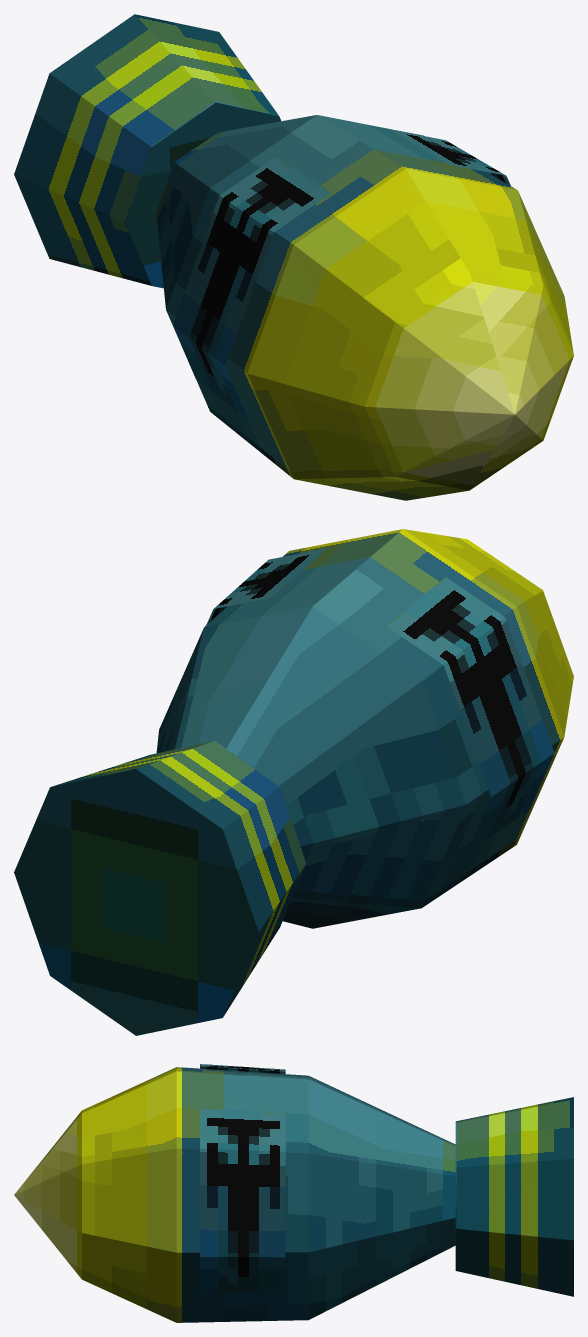
The model's file is X_shell.bgf.obj.
The picture shows the model from 3 angles, top to bottom: view 1: azimuth 30°, elevation 25°; view 2: azimuth 150°, elevation 25°; view 3: azimuth 270°, elevation 25°; orthographic projection. The views are drawn at different scales.
Visible parts, largest first — view 1: DUMMY; view 2: DUMMY; view 3: DUMMY.
Part boxes in pixels (x1=…): DUMMY: x1=14, y1=14, x2=573, y2=500; DUMMY: x1=14, y1=529, x2=573, y2=1035; DUMMY: x1=14, y1=1064, x2=573, y2=1322.
Size of the model in its own units: 0.53 by 0.51 by 1.05.
1 material, 1 textured.
